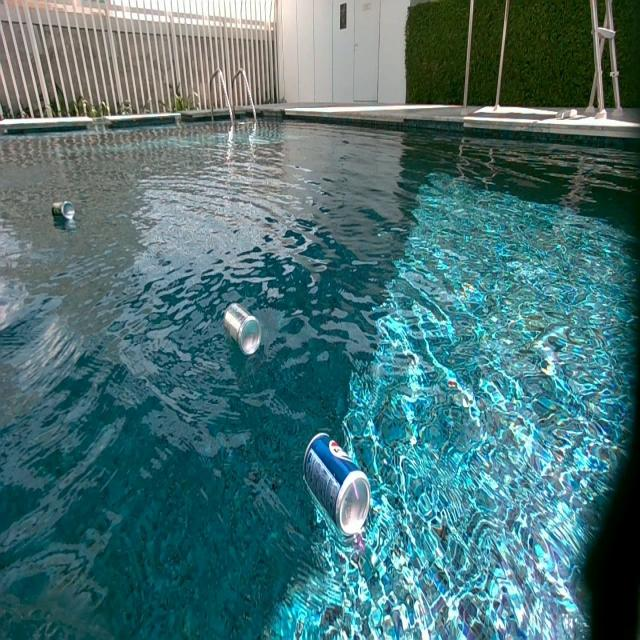Cans: (305, 435, 375, 540), (225, 303, 263, 355), (54, 203, 75, 222)
